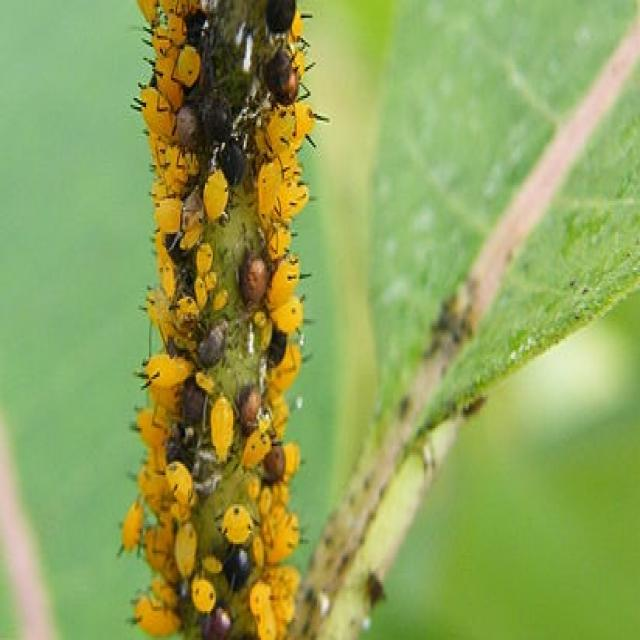Aphid-Grouped-: (127, 2, 308, 636)
Aphid-Grown-: (249, 143, 283, 233), (202, 388, 239, 470), (168, 511, 205, 593), (136, 345, 195, 396), (205, 500, 262, 547), (198, 160, 238, 226)
